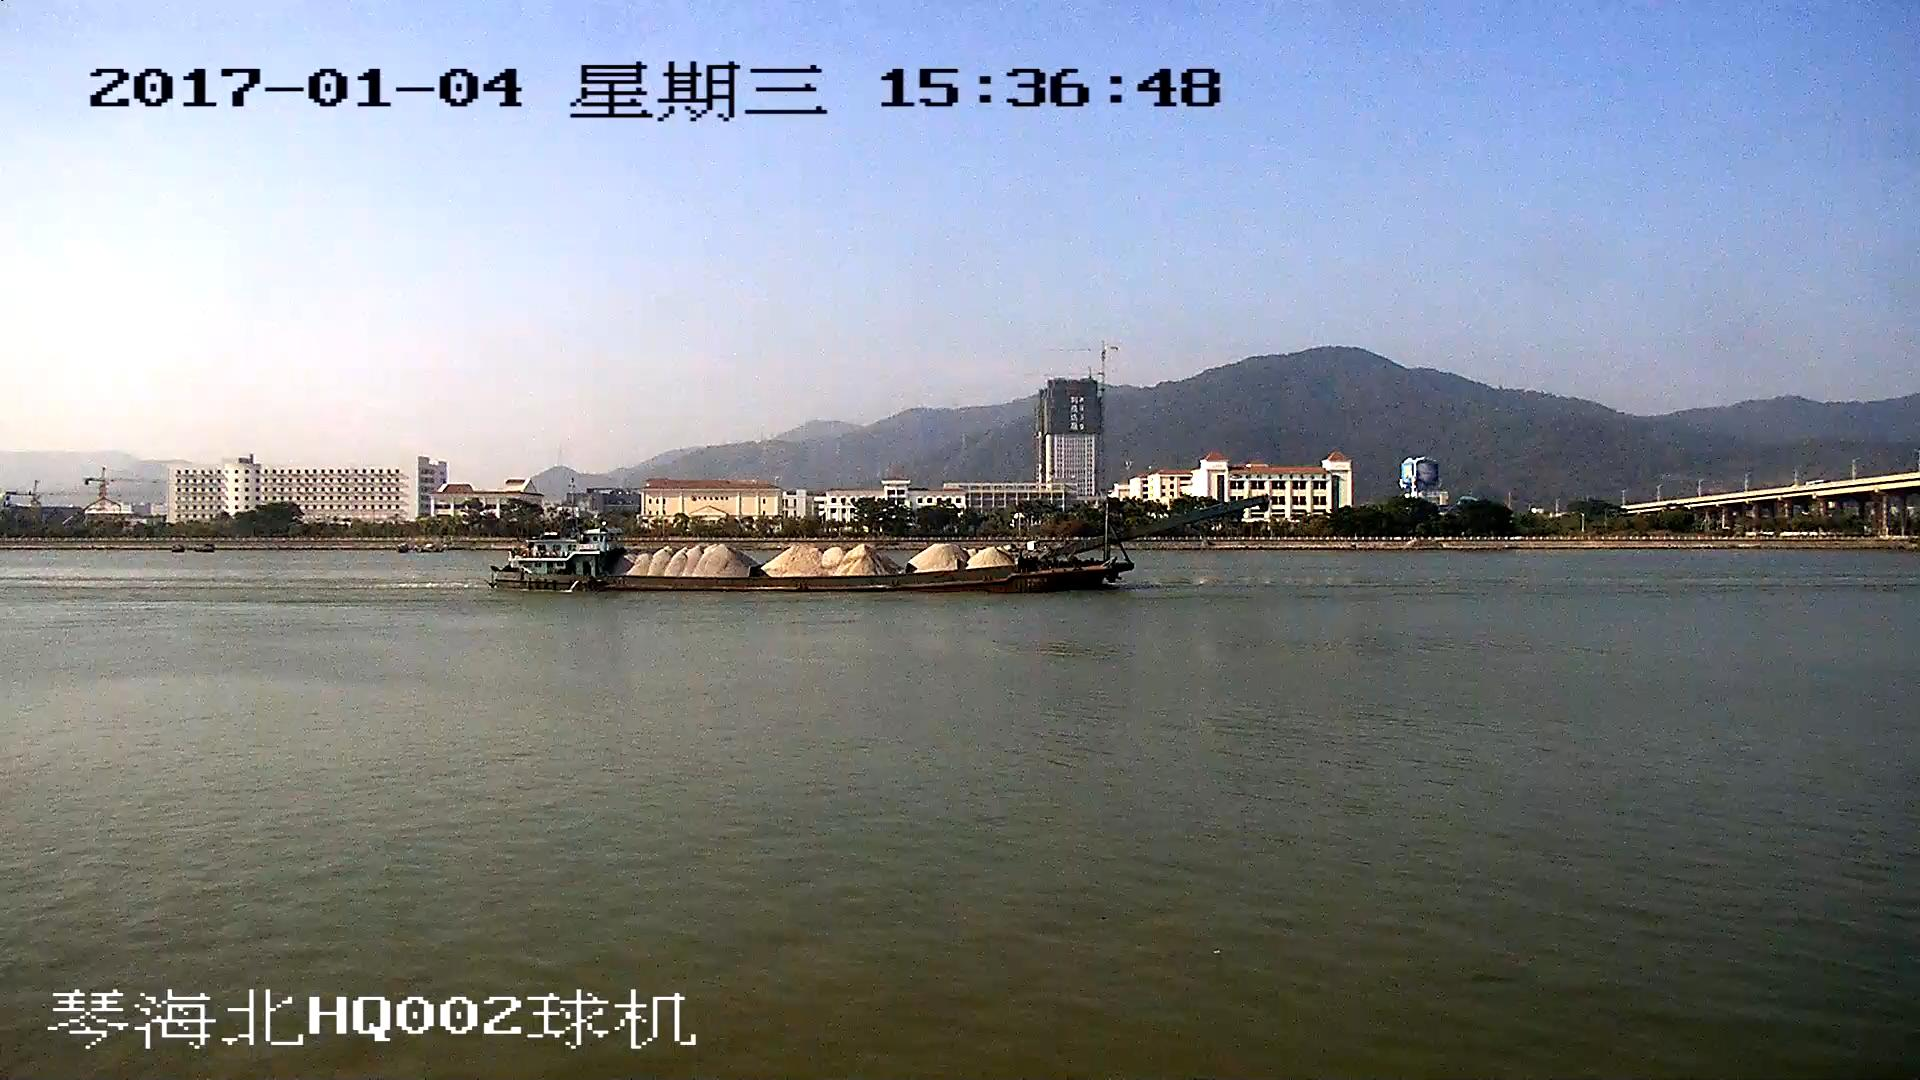ore carrier: (487, 500, 1267, 593)
